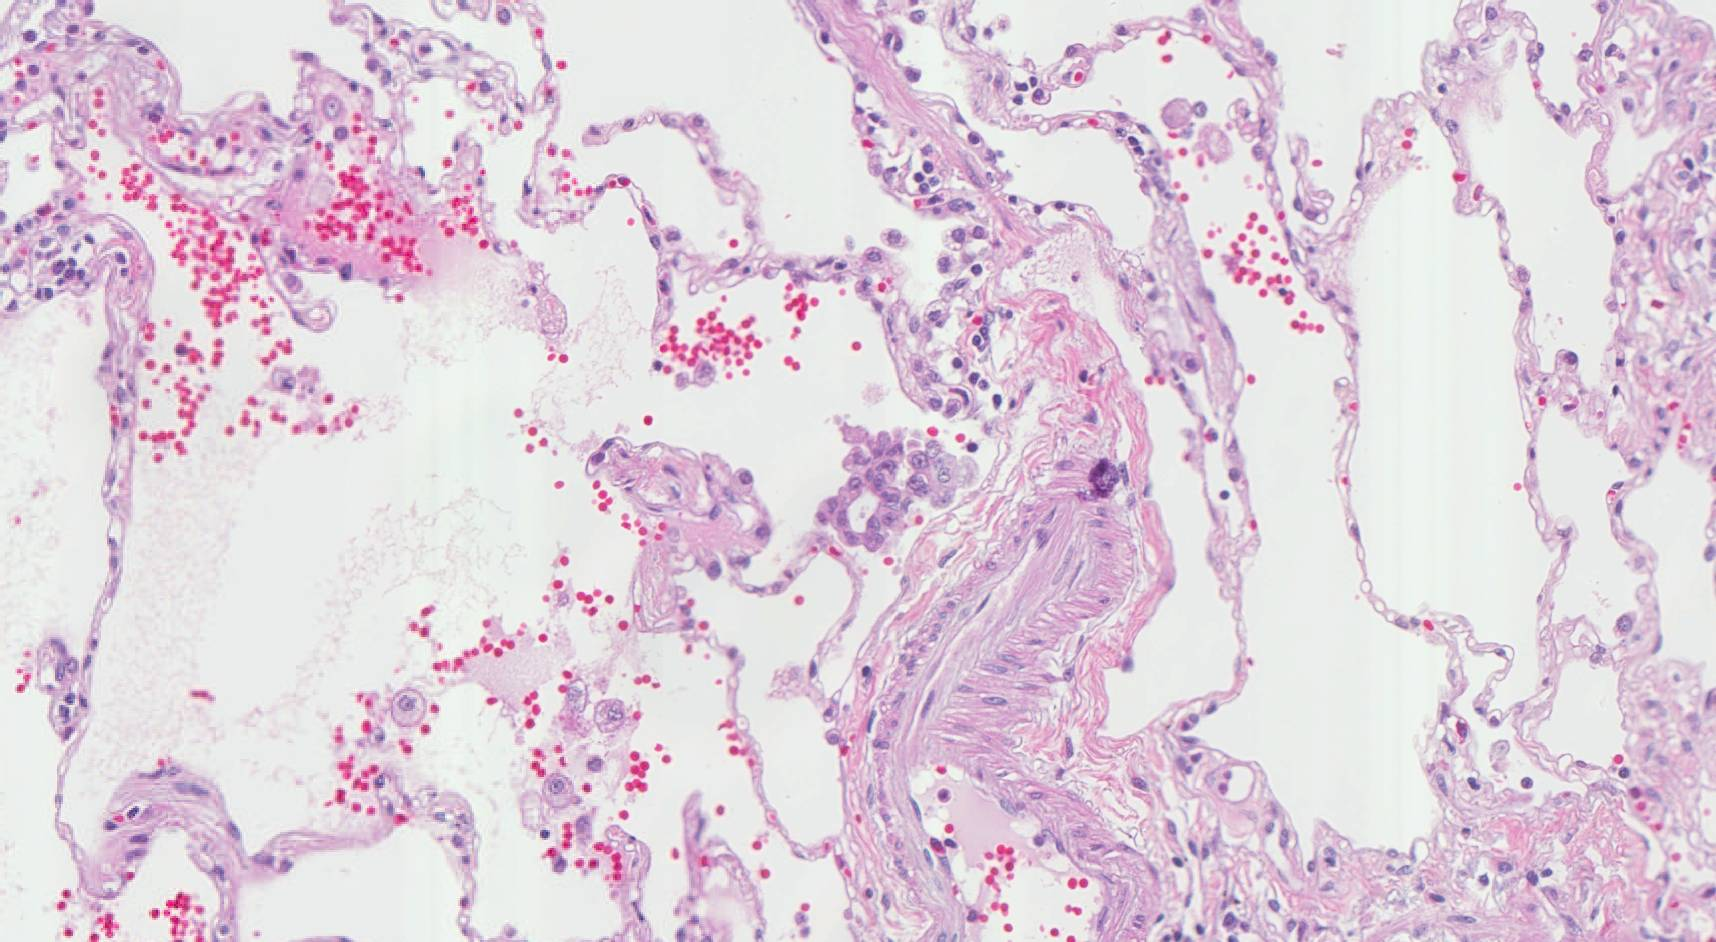stas: (812, 415, 982, 556)
